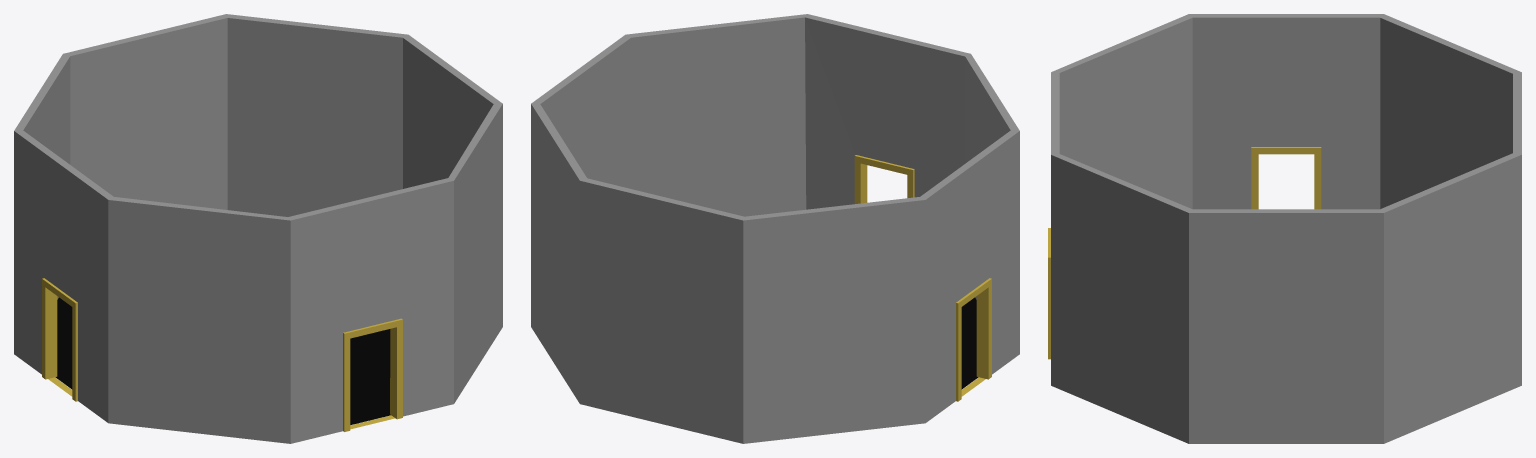
The model's file is Room 10m 8s 2 door v2.fbx.
The picture shows the model from 3 angles, left to right: view 1: azimuth 30°, elevation 25°; view 2: azimuth 150°, elevation 25°; view 3: azimuth 270°, elevation 25°; orthographic projection. The views are drawn at different scales.
Parts seen in each view (by area): view 1: Room 10m 8s 2 DOOR; view 2: Room 10m 8s 2 DOOR; view 3: Room 10m 8s 2 DOOR.
Boxes of the visible parts, bbox=[...] form: Room 10m 8s 2 DOOR: bbox=[14, 14, 502, 443]; Room 10m 8s 2 DOOR: bbox=[531, 14, 1019, 443]; Room 10m 8s 2 DOOR: bbox=[1048, 14, 1521, 443].
Bounding box in the file's own units: 9.29 × 5 × 9.29.
